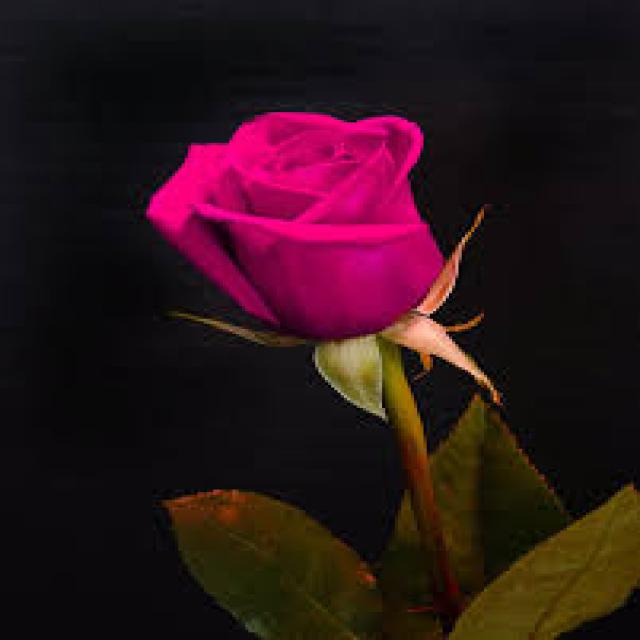rose: (146, 102, 494, 377)
